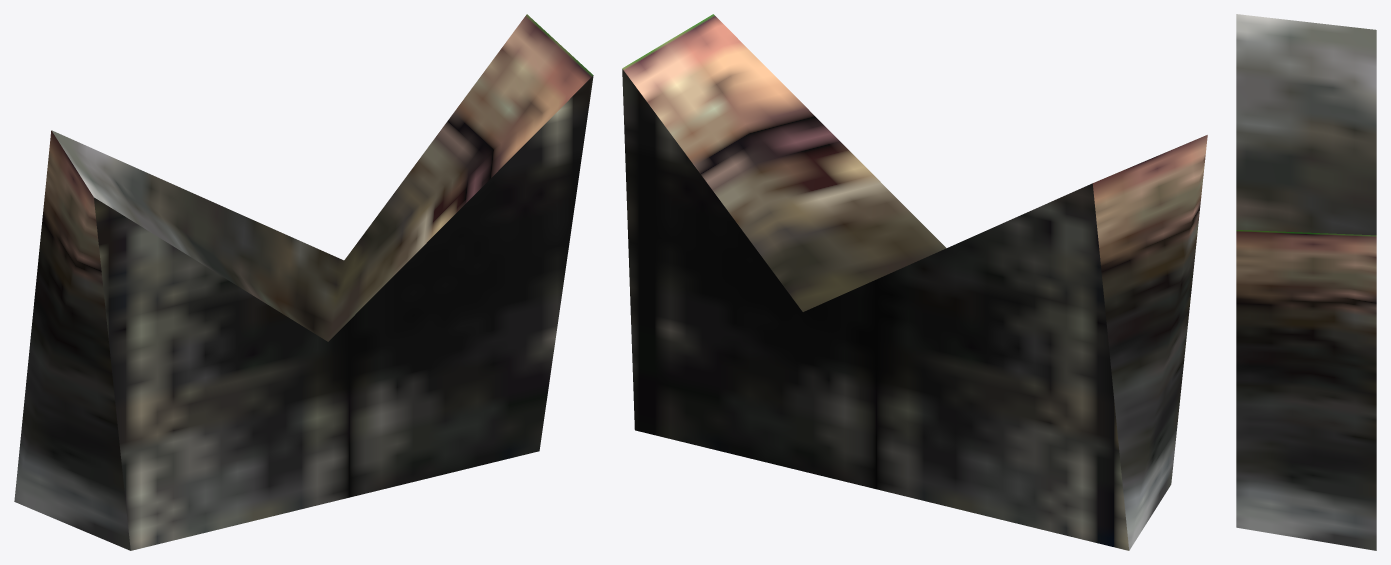
File: USA - Base Infrastructure - Power Plant - Damage State 18 - ABPWRPLANT_d18.glb
3 renders of one model, left to right at view 1: azimuth 30°, elevation 25°; view 2: azimuth 150°, elevation 25°; view 3: azimuth 270°, elevation 25°, orthographic. The views are drawn at different scales.
Parts seen in each view (by area): view 1: ABPWRPLANT_D18; view 2: ABPWRPLANT_D18; view 3: ABPWRPLANT_D18.
Boxes of the visible parts, left/top/right/bottom form: ABPWRPLANT_D18: left=14, top=14, right=593, bottom=550; ABPWRPLANT_D18: left=622, top=14, right=1207, bottom=550; ABPWRPLANT_D18: left=1236, top=14, right=1376, bottom=550.
Size of the model in its own units: 9.48 by 6.41 by 2.54.
Materials: 1 (1 with a texture image).
